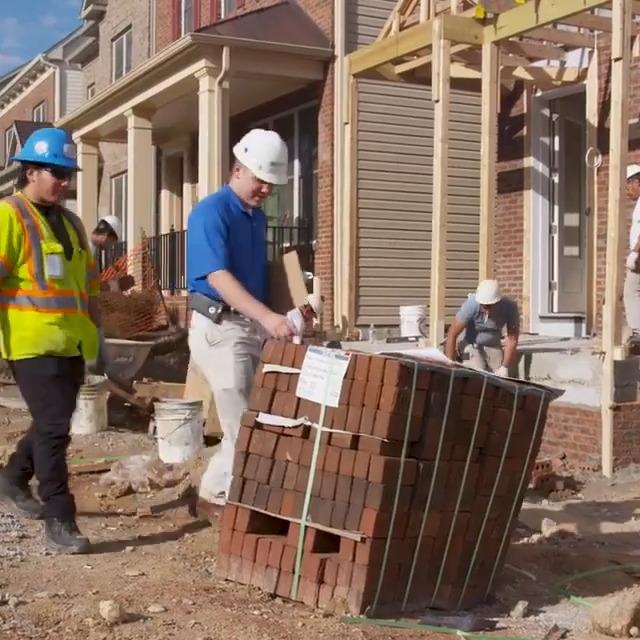Gloves: (82, 324, 102, 370), (626, 249, 640, 270), (496, 364, 508, 378)
Hardhat: (235, 130, 290, 186), (13, 127, 82, 169), (475, 276, 503, 302), (101, 211, 121, 237), (306, 293, 327, 315), (626, 161, 640, 178)
NO-Mask: (29, 183, 67, 207), (239, 186, 265, 204), (626, 186, 638, 197), (482, 309, 495, 319)
NO-Safety Vest: (189, 197, 268, 314), (466, 300, 513, 351), (289, 307, 309, 342), (88, 246, 103, 273)
Person: (183, 129, 296, 525), (0, 124, 101, 553), (448, 276, 523, 379), (620, 164, 640, 351), (89, 211, 120, 289), (288, 293, 326, 340)
Safety Vest: (0, 191, 90, 359)
